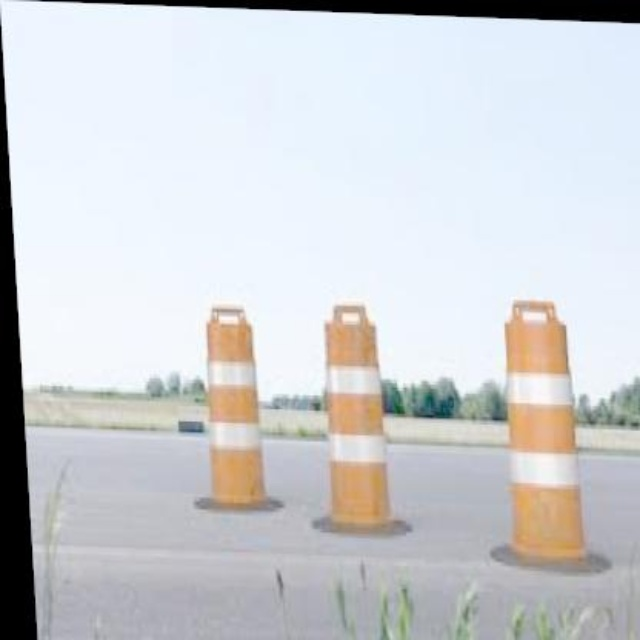obstacle: (495, 288, 585, 565), (315, 306, 386, 529), (191, 299, 262, 502)
